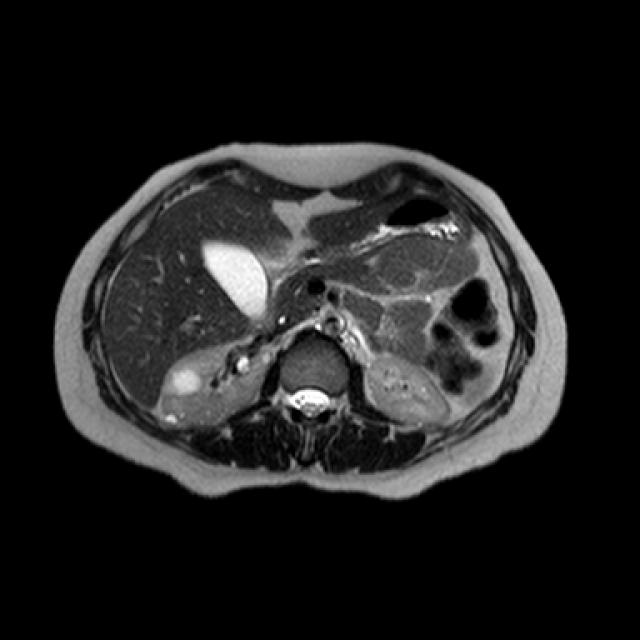sag: (162, 345, 275, 428)
sol: (368, 353, 450, 425)
